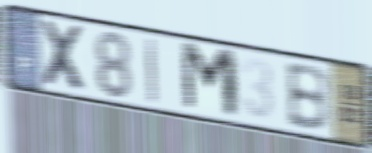3: (240, 55, 277, 123)
8: (92, 29, 134, 101)
B: (282, 61, 331, 135)
I: (144, 35, 159, 108)
M: (178, 39, 242, 123)
X: (38, 16, 92, 97)
